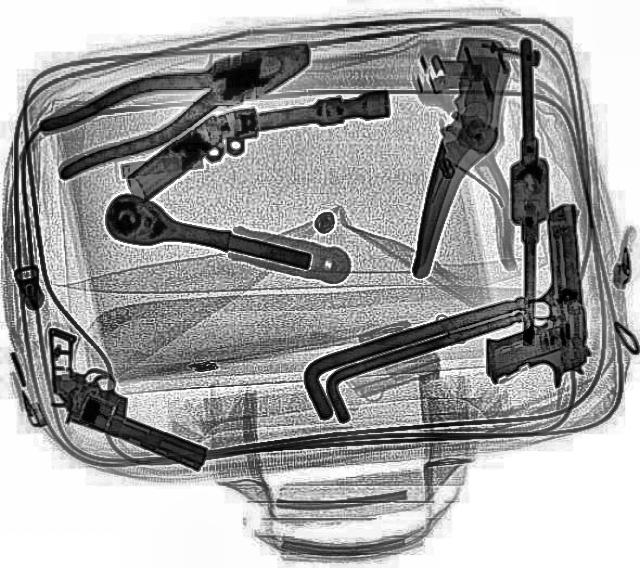Gun: (4, 324, 240, 472), (470, 202, 592, 392)
Pliers: (26, 20, 328, 180)
